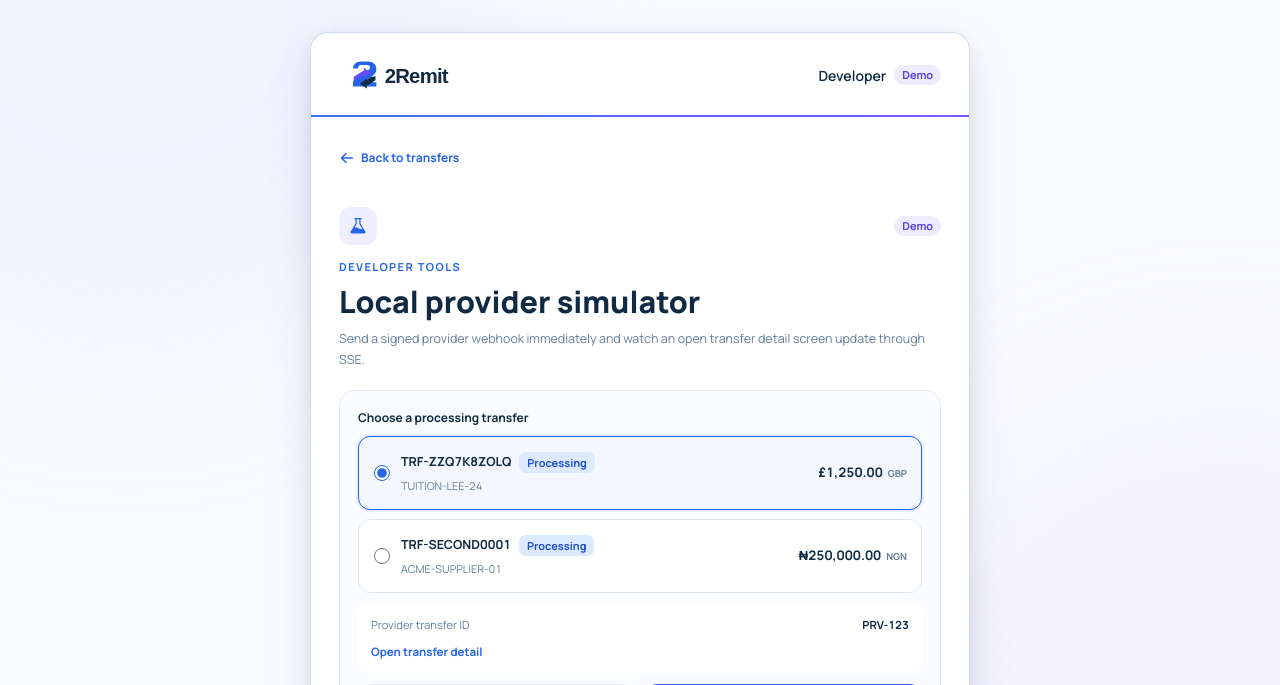
Test: ProviderSimulatorScreen › selects a visible transfer card and updates its actions
Click the radio button labelled "TRF-SECOND0001 Processing ACME-SUPPLIER-01 ₦ 250,000.00 NGN". click: (382, 556)
box: [374,548,390,564]
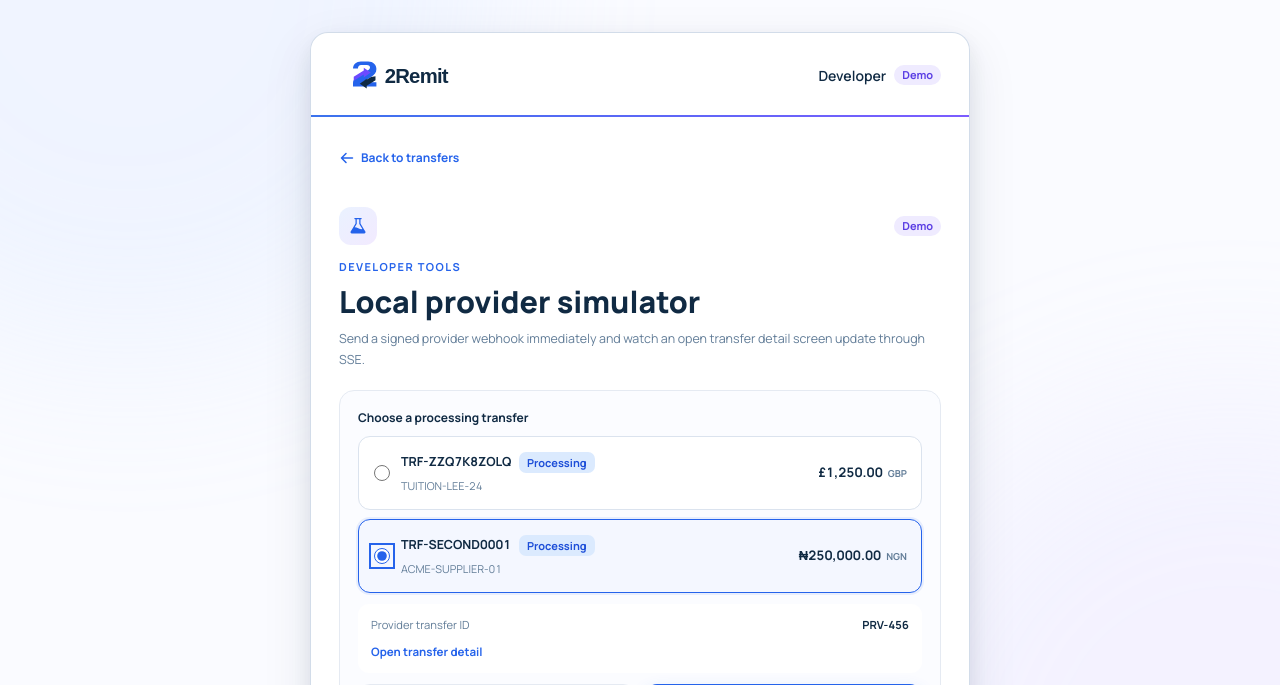
Check: the radio button labelled "TRF-SECOND0001 Processing ACME-SUPPLIER-01 ₦ 250,000.00 NGN" is checked, box [374,548,390,564]
Check: the text "PRV-456" is shown, box [862,617,909,634]
